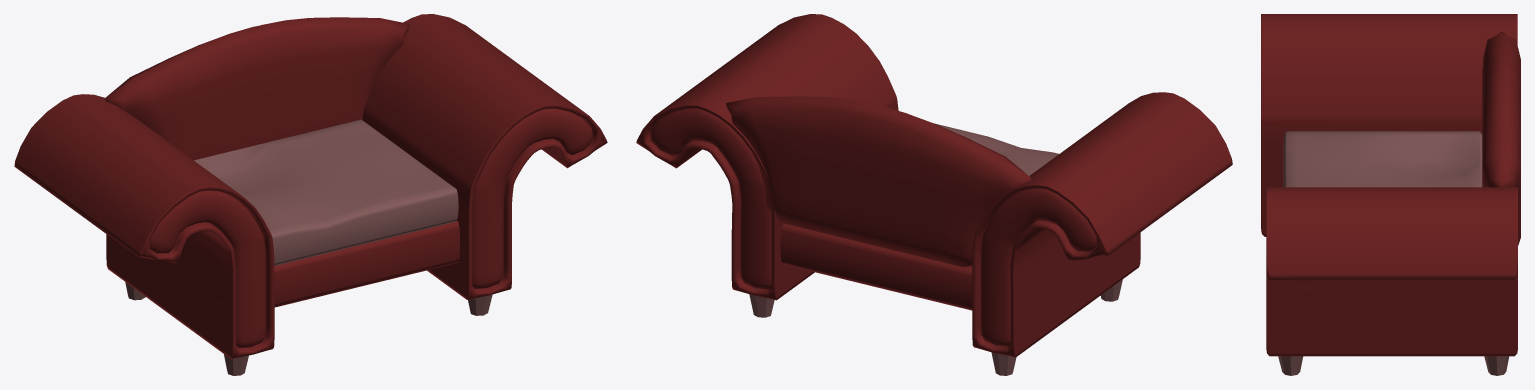
File: Sessel.fbx
3 views of the same model, side by side, from view 1: azimuth 30°, elevation 25°; view 2: azimuth 150°, elevation 25°; view 3: azimuth 270°, elevation 25° (orthographic).
Parts seen in each view (by area): view 1: polySurface3; view 2: polySurface3; view 3: polySurface3.
Part boxes in pixels (x1,y1,x2,y2): polySurface3: (14, 14, 607, 375); polySurface3: (636, 14, 1232, 375); polySurface3: (1261, 14, 1520, 375).
Size of the model in its own units: 430 by 208 by 202.
